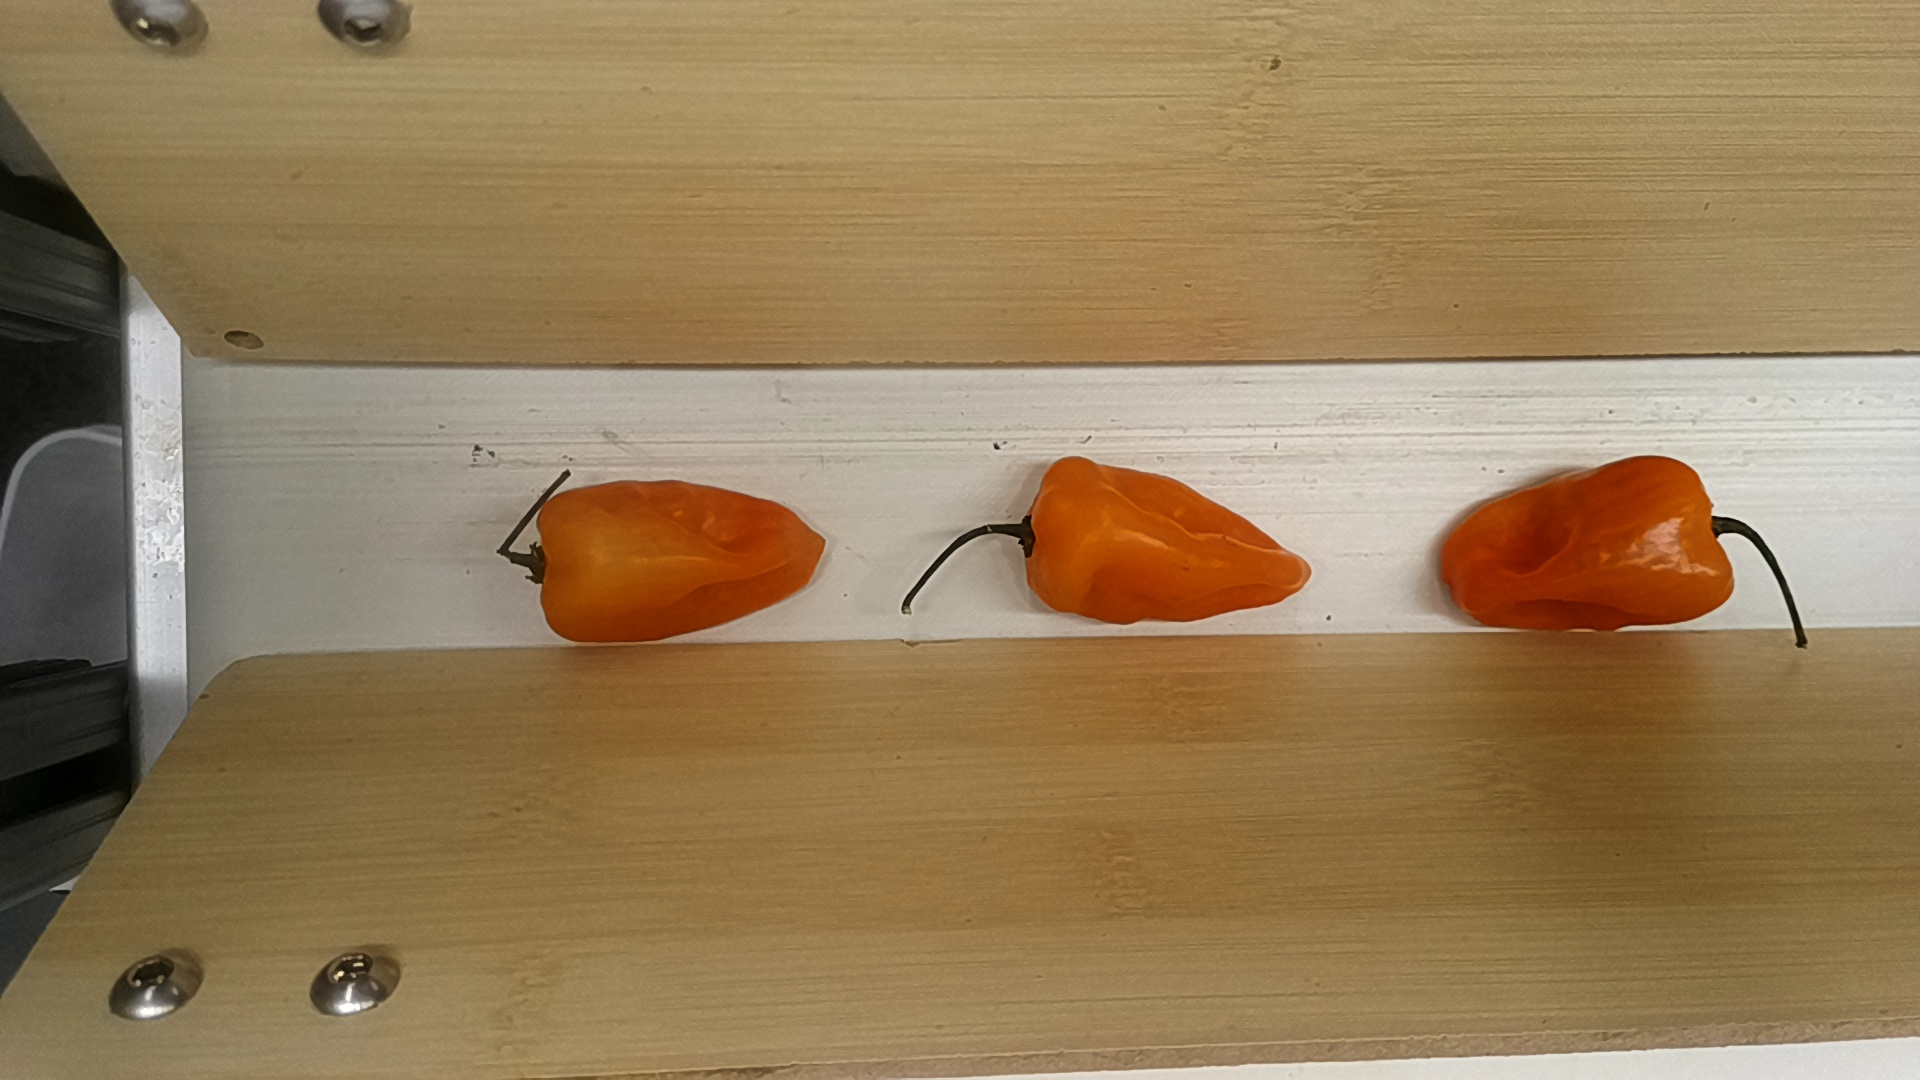Cut Point: (1011, 450, 1064, 629), (1685, 455, 1731, 620), (531, 484, 571, 651)
